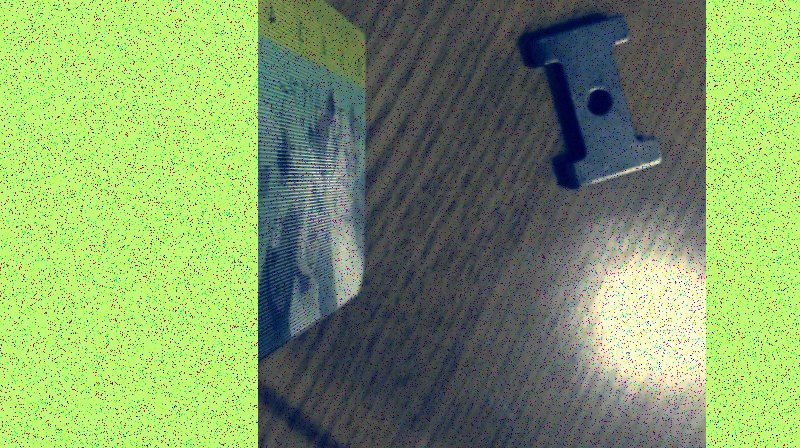O002: (518, 8, 663, 189)
